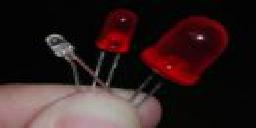LED: (139, 15, 230, 89), (94, 9, 137, 58), (41, 30, 77, 61)
